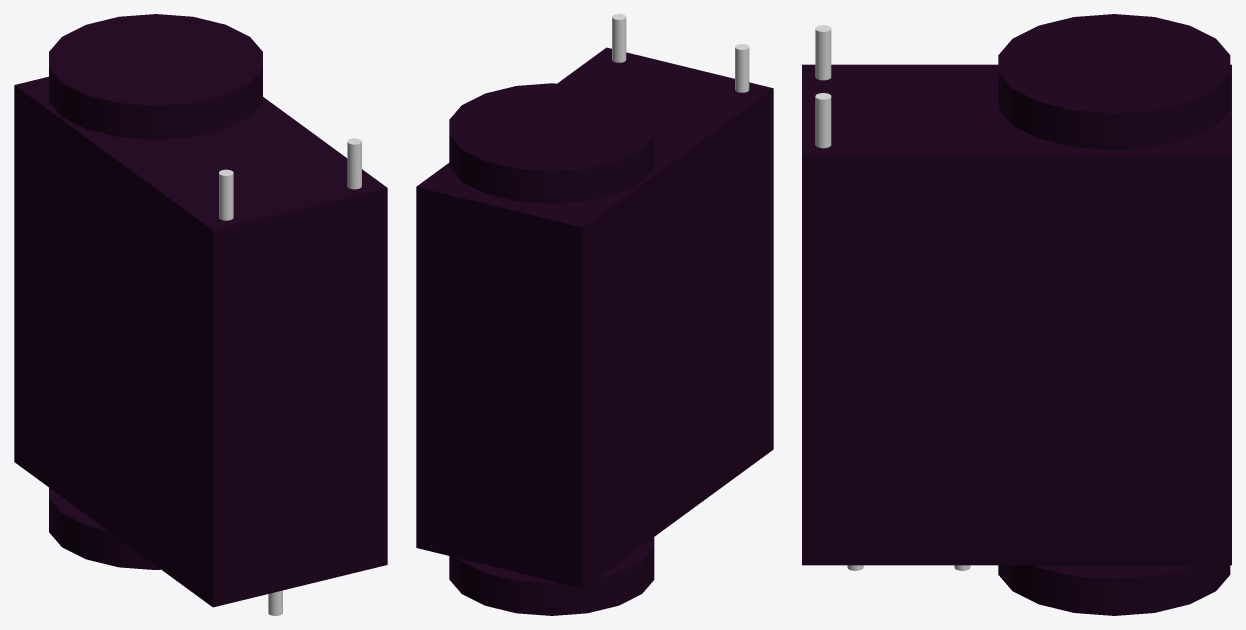
File: leg-2.FBX
3 renders of one model, left to right at view 1: azimuth 30°, elevation 25°; view 2: azimuth 150°, elevation 25°; view 3: azimuth 270°, elevation 25°, orthographic. The views are drawn at different scales.
Parts seen in each view (by area): view 1: Box050, Cylinder076, Cylinder071, Cylinder072; view 2: Box050, Cylinder076, Cylinder072, Cylinder071; view 3: Box050, Cylinder076, Cylinder071, Cylinder072.
Part boxes in pixels (box(x1,y1,x2,y2)): Box050: box(14, 76, 387, 607); Cylinder076: box(49, 14, 262, 569); Cylinder071: box(219, 169, 233, 220); Cylinder072: box(347, 138, 361, 189); Box050: box(416, 47, 773, 588); Cylinder076: box(449, 83, 654, 615); Cylinder072: box(612, 14, 626, 62); Cylinder071: box(735, 44, 749, 92); Box050: box(802, 64, 1231, 565); Cylinder076: box(998, 14, 1230, 615); Cylinder071: box(815, 25, 831, 80); Cylinder072: box(815, 93, 831, 148).
Bounding box in the file's own units: 0.8661 × 2.05 × 1.58.
